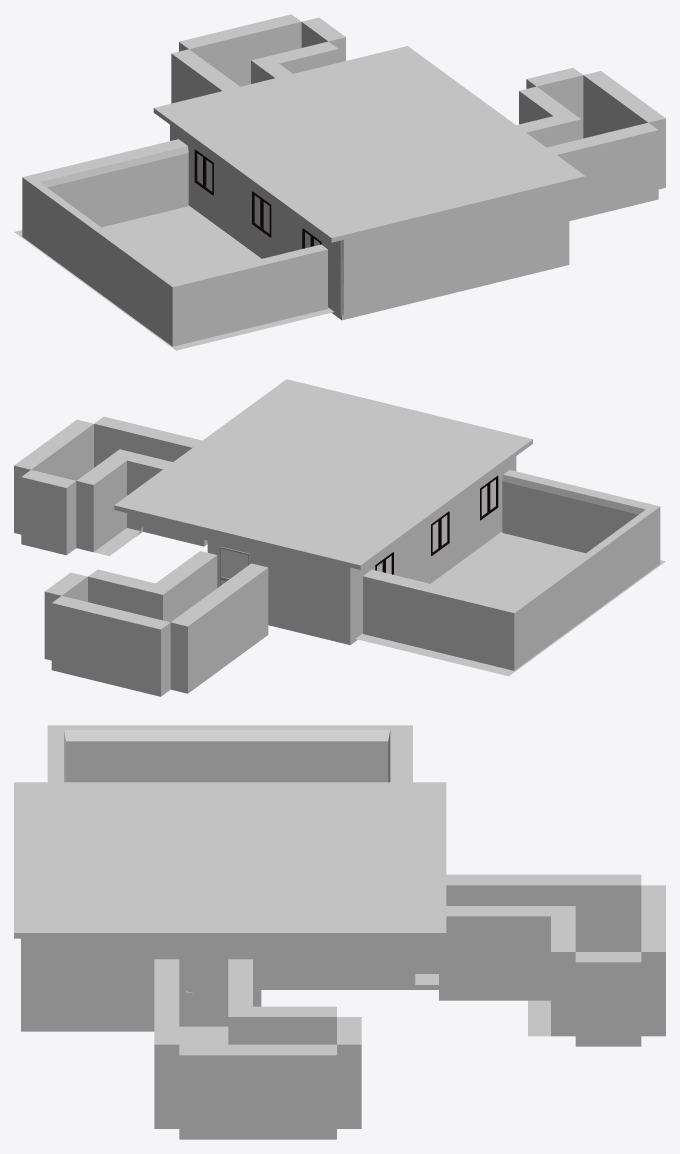
File: exp22.fbx
The picture shows the model from 3 angles, top to bottom: view 1: azimuth 30°, elevation 25°; view 2: azimuth 150°, elevation 25°; view 3: azimuth 270°, elevation 25°; orthographic projection. The views are drawn at different scales.
Visible parts, largest first — view 1: soffitta, SiepeXL, Pareti, Prato, Cube, Cube.006, Cube.003, Cube.009, Cube.002, Cube.007, Cube.004, parche (+2 smaller); view 2: soffitta, SiepeXL, Pareti, Cube.006, Cube.009, Prato, Cube.004, Cube.002, Cube.003, Cube, Cube.007, Cube.008 (+4 smaller); view 3: soffitta, Pareti, SiepeXL, Cube.003, Cube.008, Cube.009, Cube.005, Cube, Cube.002, Cube.006, Cube.007, PortaSalotto (+6 smaller).
Boxes of the visible parts, bbox=[...] form: soffitta: bbox=[153, 46, 585, 242]; SiepeXL: bbox=[22, 139, 327, 346]; Pareti: bbox=[170, 125, 569, 315]; Prato: bbox=[14, 205, 333, 350]; Cube: bbox=[547, 122, 658, 220]; Cube.006: bbox=[179, 14, 301, 86]; Cube.003: bbox=[583, 71, 665, 189]; Cube.009: bbox=[171, 49, 239, 103]; Cube.002: bbox=[519, 86, 581, 142]; Cube.007: bbox=[251, 41, 338, 83]; Cube.004: bbox=[526, 68, 583, 138]; parche: bbox=[243, 244, 569, 320]; soffitta: bbox=[114, 379, 532, 569]; SiepeXL: bbox=[363, 470, 660, 670]; Pareti: bbox=[201, 456, 516, 641]; Cube.006: bbox=[51, 596, 170, 696]; Cube.009: bbox=[170, 563, 268, 693]; Prato: bbox=[355, 531, 665, 676]; Cube.004: bbox=[21, 470, 76, 555]; Cube.002: bbox=[76, 449, 136, 552]; Cube.003: bbox=[14, 419, 93, 534]; Cube: bbox=[94, 416, 202, 467]; Cube.007: bbox=[88, 569, 172, 622]; Cube.008: bbox=[156, 551, 217, 620]; soffitta: bbox=[14, 782, 446, 938]; Pareti: bbox=[21, 938, 438, 1026]; SiepeXL: bbox=[47, 725, 412, 782]; Cube.003: bbox=[179, 1044, 336, 1139]; Cube.008: bbox=[439, 906, 550, 1000]; Cube.009: bbox=[446, 874, 641, 951]; Cube.005: bbox=[575, 952, 641, 1046]; Cube: bbox=[154, 959, 179, 1128]; Cube.002: bbox=[228, 1006, 336, 1044]; Cube.006: bbox=[641, 885, 665, 1036]; Cube.007: bbox=[551, 906, 575, 1036]; PortaSalotto: bbox=[182, 954, 224, 1026].
Bounding box in the file's own units: 1929 × 328 × 1634.
36 materials, 35 textured.
